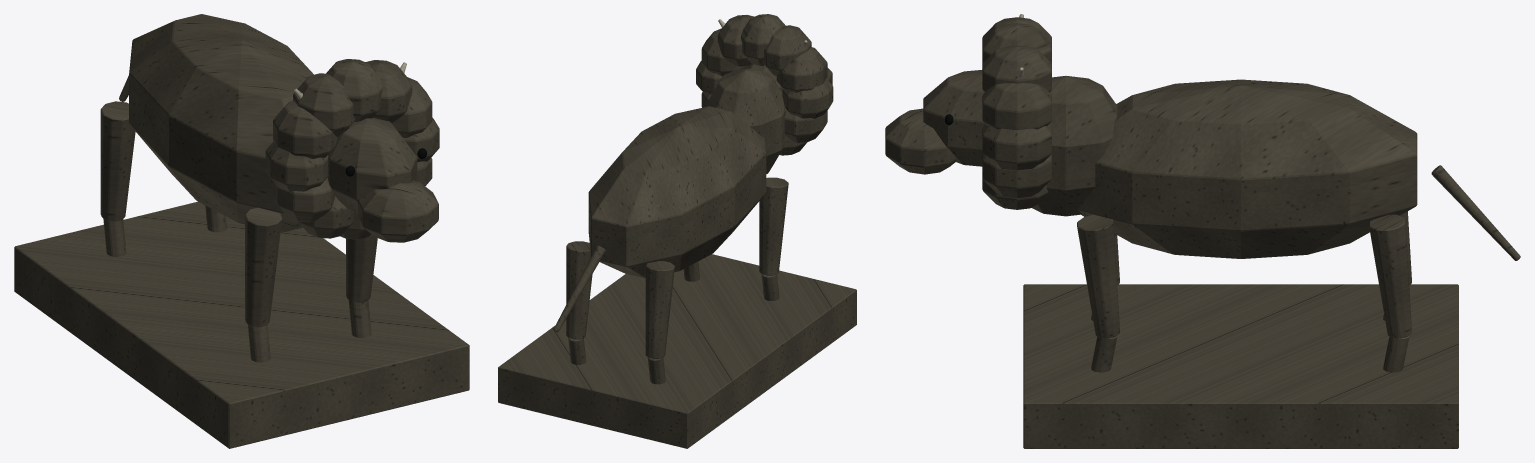
File: PROP-10D1D5456444_lod1.glb
3 views of the same model, side by side, from view 1: azimuth 30°, elevation 25°; view 2: azimuth 150°, elevation 25°; view 3: azimuth 270°, elevation 25° (orthographic). The views are drawn at different scales.
Visible parts, largest first — view 1: statue_plinth.001, animal_torso.001, stone_mane.001, upper_leg.001, animal_head.001, muzzle.001, lower_leg.001; view 2: statue_plinth.001, animal_torso.001, stone_mane.001, upper_leg.001, animal_neck.001, lower_leg.001, tail.001; view 3: statue_plinth.001, animal_torso.001, stone_mane.001, upper_leg.001, animal_neck.001, animal_head.001, muzzle.001, lower_leg.001, tail.001.
Part boxes in pixels (bbox=[...]): statue_plinth.001: bbox=[14, 201, 469, 448]; animal_torso.001: bbox=[129, 14, 313, 232]; stone_mane.001: bbox=[265, 59, 439, 239]; upper_leg.001: bbox=[100, 101, 377, 327]; animal_head.001: bbox=[327, 117, 417, 213]; muzzle.001: bbox=[358, 180, 438, 242]; lower_leg.001: bbox=[103, 205, 371, 362]; statue_plinth.001: bbox=[498, 254, 856, 448]; animal_torso.001: bbox=[588, 106, 766, 278]; stone_mane.001: bbox=[696, 14, 833, 155]; upper_leg.001: bbox=[566, 177, 788, 358]; animal_neck.001: bbox=[704, 68, 786, 173]; lower_leg.001: bbox=[568, 261, 779, 384]; tail.001: bbox=[553, 245, 605, 332]; statue_plinth.001: bbox=[1023, 284, 1458, 448]; animal_torso.001: bbox=[1078, 79, 1417, 258]; stone_mane.001: bbox=[982, 17, 1051, 209]; upper_leg.001: bbox=[1077, 211, 1411, 338]; animal_neck.001: bbox=[1031, 76, 1117, 216]; animal_head.001: bbox=[923, 70, 985, 166]; muzzle.001: bbox=[885, 108, 956, 174]; lower_leg.001: bbox=[1091, 314, 1409, 372]; tail.001: bbox=[1431, 165, 1520, 260].
Size of the model in its own units: 1.1 by 1.57 by 2.48.
3 materials, 3 textured.
